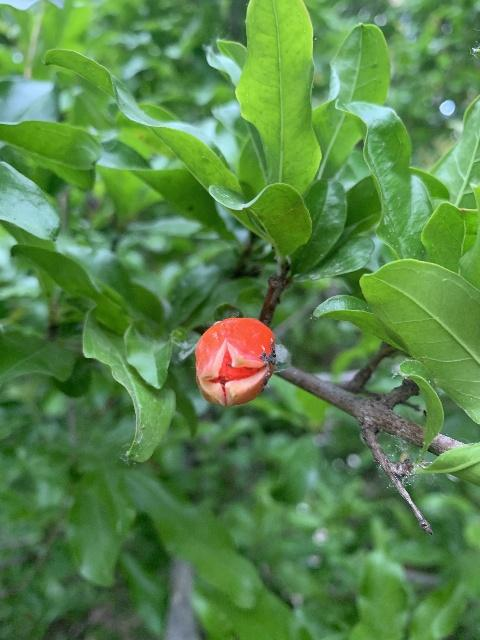flower: (194, 316, 274, 406)
